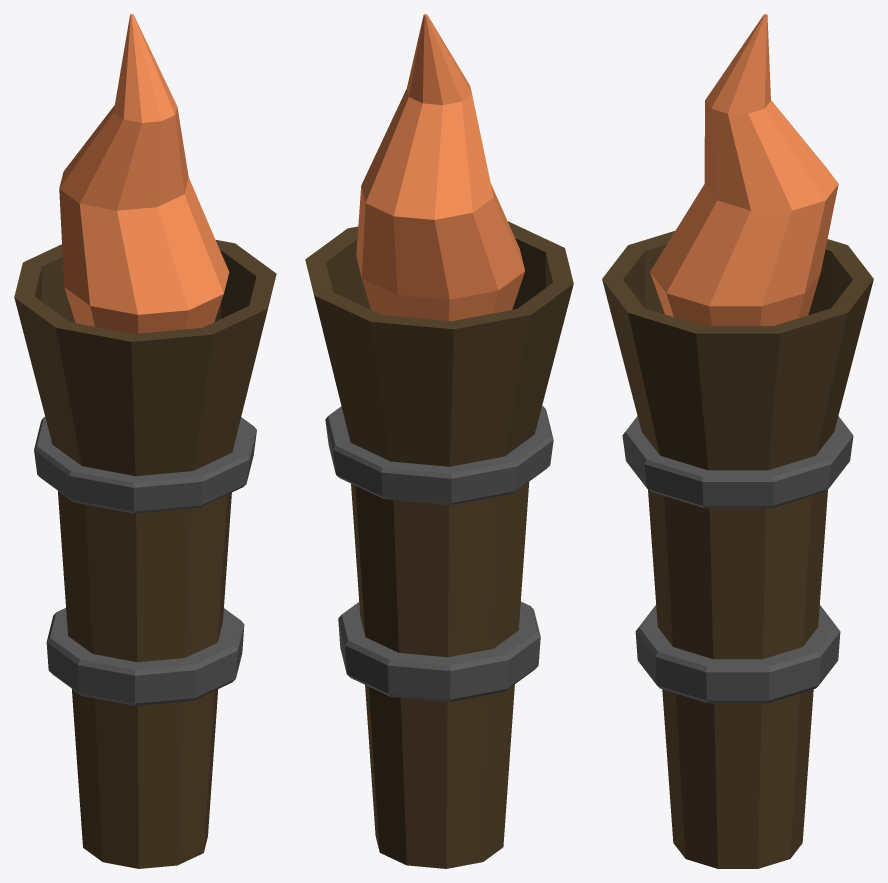
The model's file is Torch.fbx.
3 views of the same model, side by side, from view 1: azimuth 30°, elevation 25°; view 2: azimuth 150°, elevation 25°; view 3: azimuth 270°, elevation 25° (orthographic). The views are drawn at different scales.
Parts seen in each view (by area): view 1: Torch; view 2: Torch; view 3: Torch.
Part boxes in pixels (box(x1,y1,x2,y2)): Torch: box(14, 14, 276, 868); Torch: box(305, 14, 573, 868); Torch: box(602, 14, 873, 868).
Bounding box in the file's own units: 13.71 × 48.45 × 14.41.
